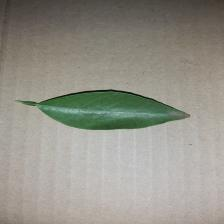healthy: (48, 93, 165, 130)
